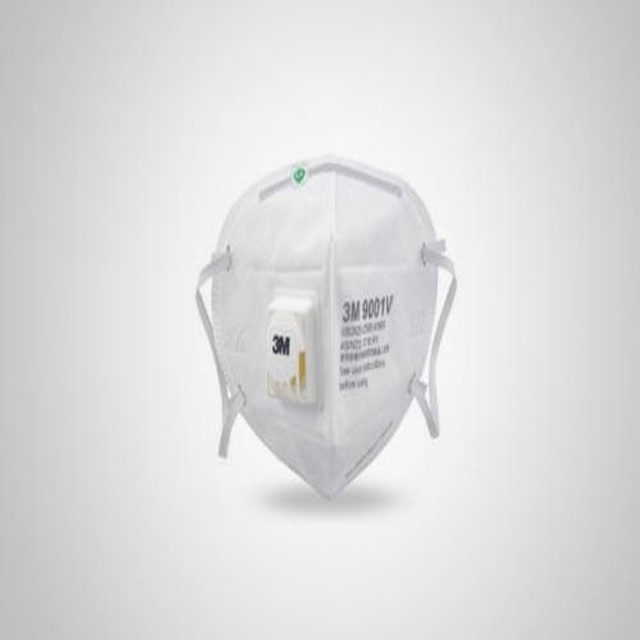mask: (191, 155, 460, 501)
